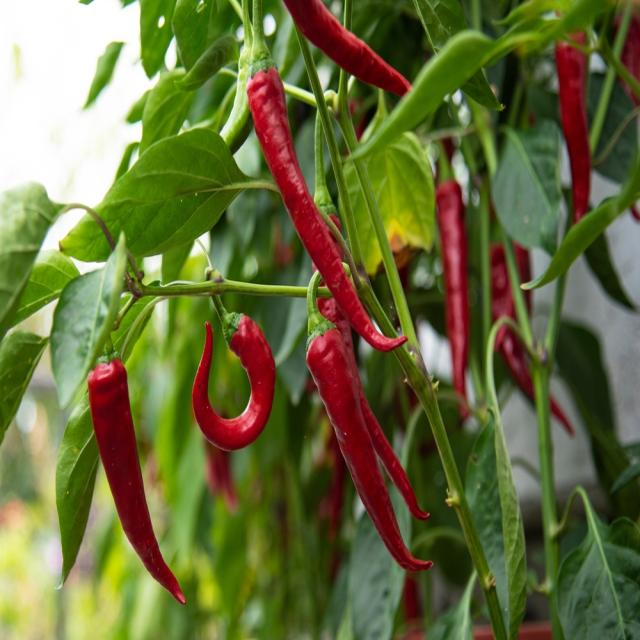Ripe: (246, 66, 406, 351), (306, 328, 431, 571), (89, 358, 185, 603), (318, 298, 424, 518), (284, 0, 411, 96), (192, 317, 275, 450), (436, 178, 469, 420), (555, 41, 590, 222), (320, 270, 325, 277)
Unripe: (220, 0, 252, 154)
